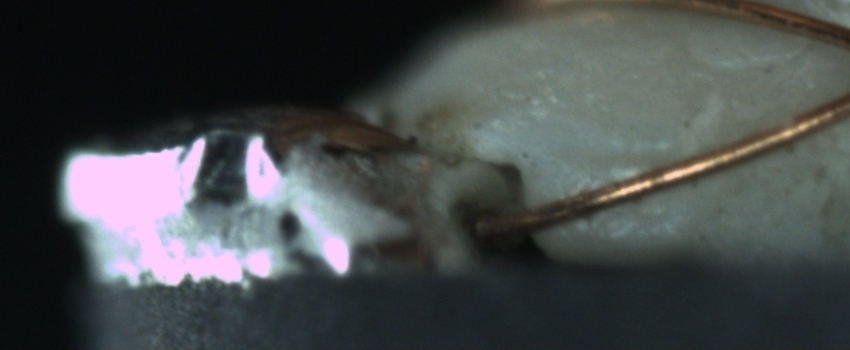DL: (567, 126, 690, 188)
